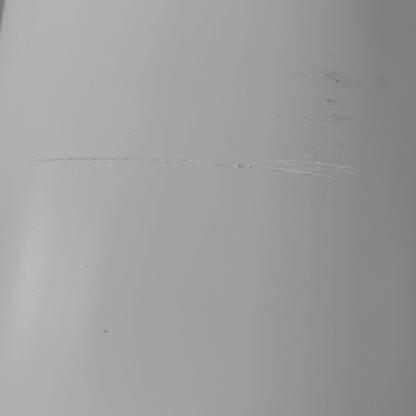sunshang: (32, 142, 362, 183)
